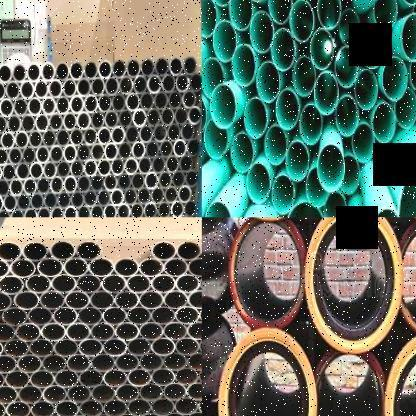pipe: (304, 217, 402, 353), (218, 327, 318, 416), (228, 218, 307, 330), (314, 351, 386, 416), (384, 331, 416, 416), (399, 220, 416, 334), (317, 144, 345, 193), (382, 56, 407, 102), (211, 83, 236, 129), (314, 70, 339, 115), (231, 44, 256, 86), (289, 0, 314, 42), (250, 11, 274, 54), (361, 28, 385, 70), (310, 28, 334, 70), (271, 29, 295, 71), (256, 61, 280, 103), (204, 118, 228, 160), (246, 164, 271, 204), (335, 47, 359, 88), (276, 89, 300, 130), (299, 104, 323, 145), (292, 56, 316, 96), (354, 70, 378, 110), (335, 96, 359, 136), (244, 98, 268, 138), (372, 104, 396, 144), (264, 125, 288, 165), (230, 133, 254, 173), (271, 174, 295, 214), (352, 123, 376, 162), (214, 20, 236, 62), (202, 58, 224, 99), (306, 167, 328, 208), (394, 88, 416, 128), (286, 142, 309, 180), (339, 154, 360, 194), (338, 9, 360, 47), (400, 13, 416, 61), (374, 0, 398, 32), (230, 0, 254, 31), (317, 0, 341, 30), (284, 201, 326, 217), (323, 192, 347, 217), (268, 0, 292, 25), (202, 0, 218, 37), (37, 257, 64, 278), (51, 273, 78, 294), (24, 274, 52, 294), (1, 306, 29, 326), (41, 353, 67, 374), (126, 273, 152, 294), (63, 257, 89, 278), (76, 273, 102, 294), (14, 290, 41, 310), (3, 338, 30, 358), (22, 241, 49, 261), (9, 258, 36, 278), (102, 273, 127, 294), (50, 240, 76, 260), (64, 290, 90, 310), (39, 290, 65, 310), (78, 338, 104, 358), (52, 306, 78, 326), (27, 306, 53, 326), (88, 257, 114, 277), (66, 353, 92, 373), (90, 290, 116, 310), (77, 306, 103, 326), (102, 306, 128, 326), (176, 240, 202, 260), (150, 305, 176, 325), (18, 384, 44, 404), (29, 369, 55, 389), (42, 384, 68, 404), (102, 337, 128, 357), (54, 368, 80, 388), (78, 368, 104, 388), (162, 382, 188, 402), (76, 240, 102, 260), (164, 257, 188, 278), (5, 370, 30, 390), (29, 338, 54, 358), (91, 352, 116, 372), (0, 274, 25, 294), (127, 368, 152, 388), (151, 274, 176, 294), (103, 368, 128, 388), (175, 305, 200, 325), (16, 323, 42, 342), (53, 339, 80, 357), (0, 240, 22, 262), (114, 257, 138, 277), (140, 322, 164, 342), (114, 290, 138, 310), (127, 306, 151, 326), (152, 240, 176, 260), (164, 290, 188, 310), (140, 352, 164, 372), (176, 273, 200, 293), (115, 322, 140, 341), (115, 353, 140, 372), (175, 337, 200, 356), (66, 323, 92, 341), (90, 323, 116, 341), (40, 323, 66, 341), (162, 322, 188, 340), (16, 354, 42, 372), (162, 352, 188, 370), (150, 398, 176, 416), (140, 258, 164, 277), (151, 337, 175, 356), (140, 290, 164, 309), (174, 367, 198, 386), (91, 384, 116, 402), (67, 385, 92, 403), (103, 398, 128, 416), (78, 398, 103, 416), (204, 201, 232, 217), (29, 399, 55, 416), (127, 338, 151, 356), (140, 384, 164, 402), (116, 384, 140, 402), (127, 398, 151, 416), (174, 397, 198, 415), (151, 368, 175, 386), (54, 399, 79, 416), (5, 400, 30, 416), (0, 385, 19, 404), (146, 106, 162, 128), (118, 74, 134, 96), (76, 76, 92, 98), (185, 381, 202, 401), (160, 106, 176, 127), (132, 107, 148, 128), (118, 108, 134, 129), (90, 109, 106, 130), (76, 110, 92, 131), (180, 121, 196, 142), (124, 124, 140, 145), (14, 129, 30, 150), (90, 141, 106, 162), (76, 142, 92, 163), (110, 156, 126, 177), (130, 170, 146, 191), (182, 55, 198, 76), (154, 56, 170, 77), (12, 62, 28, 83), (90, 76, 106, 97), (20, 79, 36, 100), (112, 58, 127, 80), (147, 73, 162, 95), (133, 74, 148, 96), (182, 88, 197, 110), (166, 122, 182, 142), (152, 123, 168, 143), (172, 138, 188, 158), (124, 156, 140, 176), (42, 160, 58, 180), (144, 170, 160, 190), (36, 176, 52, 196), (168, 56, 184, 76), (140, 57, 156, 77), (126, 58, 142, 78), (26, 62, 42, 82), (104, 76, 120, 96), (186, 351, 202, 371), (104, 109, 119, 130), (7, 113, 22, 134), (97, 125, 112, 146), (145, 139, 160, 160), (35, 144, 50, 165), (2, 161, 17, 182), (77, 173, 92, 194), (23, 176, 38, 197), (55, 61, 70, 82), (41, 61, 56, 82), (48, 78, 63, 99), (187, 256, 202, 277), (140, 90, 154, 112), (98, 92, 112, 114), (56, 94, 70, 116), (22, 112, 36, 134), (98, 58, 112, 80), (34, 78, 48, 100), (6, 79, 20, 101), (138, 124, 154, 143), (137, 156, 153, 175), (136, 186, 152, 205), (186, 321, 202, 340), (13, 96, 28, 116), (174, 106, 189, 126), (35, 112, 50, 132), (111, 125, 126, 145), (83, 126, 98, 146), (159, 138, 174, 158), (22, 145, 37, 165), (8, 146, 23, 166), (165, 154, 180, 174), (83, 158, 98, 178), (171, 168, 186, 188), (158, 170, 173, 190), (117, 172, 132, 192), (9, 177, 24, 197), (70, 189, 85, 209), (16, 192, 31, 212), (83, 60, 98, 80), (187, 289, 202, 309), (154, 90, 168, 111), (126, 91, 140, 112), (112, 92, 126, 113), (84, 93, 98, 114), (70, 94, 84, 115), (42, 95, 56, 116), (1, 130, 15, 151), (104, 141, 118, 162), (188, 71, 202, 92), (176, 72, 190, 93), (162, 73, 176, 94), (0, 354, 16, 372), (29, 128, 42, 150), (97, 158, 112, 177), (164, 185, 179, 204), (96, 188, 111, 207), (0, 322, 15, 341), (168, 90, 182, 110), (28, 96, 42, 116), (63, 111, 77, 131), (49, 112, 63, 132), (70, 127, 84, 147), (42, 128, 56, 148), (186, 137, 200, 157), (132, 140, 146, 160), (118, 140, 132, 160), (63, 143, 77, 163), (152, 154, 166, 174), (70, 158, 84, 178), (57, 159, 71, 179), (16, 161, 30, 181), (104, 172, 118, 192), (50, 175, 64, 195), (124, 186, 138, 206), (84, 188, 98, 208), (63, 78, 77, 98), (0, 96, 13, 117), (57, 127, 70, 148), (179, 154, 194, 172), (90, 174, 105, 192), (150, 186, 165, 204), (43, 192, 58, 210), (3, 194, 18, 212), (156, 200, 171, 218), (185, 169, 199, 188), (64, 174, 78, 193), (178, 184, 192, 203), (110, 187, 124, 206), (57, 191, 71, 210), (70, 61, 84, 80), (50, 144, 63, 164), (30, 160, 43, 180), (102, 202, 118, 218), (30, 192, 44, 210), (183, 199, 197, 217), (170, 200, 184, 218), (0, 62, 12, 83), (143, 201, 158, 217), (410, 52, 416, 92), (0, 290, 12, 310), (130, 202, 144, 218), (116, 202, 130, 218), (90, 202, 104, 218), (202, 94, 207, 136), (77, 204, 91, 218), (0, 178, 10, 197), (0, 258, 10, 277), (63, 205, 77, 217), (50, 205, 64, 217), (37, 206, 51, 218), (0, 146, 8, 166), (0, 113, 7, 134), (210, 0, 234, 6), (10, 208, 24, 218), (412, 0, 416, 34), (0, 79, 6, 101), (24, 207, 37, 217), (0, 370, 5, 390), (138, 412, 163, 416), (0, 400, 6, 416), (162, 412, 186, 416), (185, 411, 202, 416), (0, 209, 10, 217), (0, 339, 4, 357), (114, 413, 138, 416), (0, 194, 3, 212), (90, 414, 116, 416), (67, 414, 92, 416), (0, 162, 2, 183)
